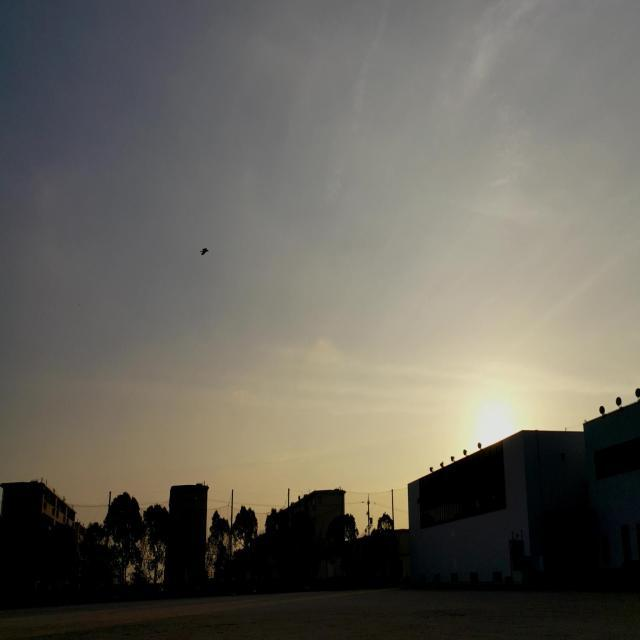Birds: (196, 242, 216, 262)
